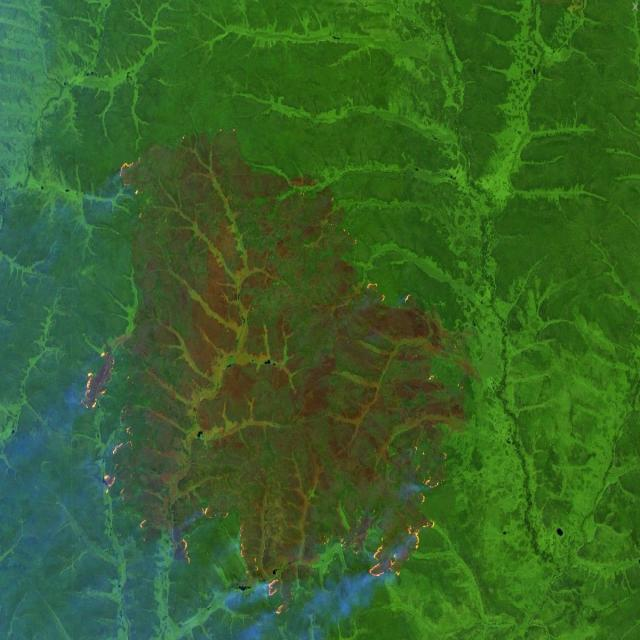fire: (78, 343, 451, 626), (114, 148, 154, 216), (360, 268, 396, 321)
